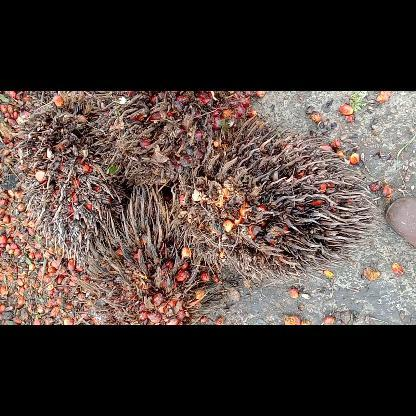Terlalu masak: (165, 110, 383, 286), (9, 90, 137, 276), (75, 182, 233, 324), (86, 90, 220, 196)
